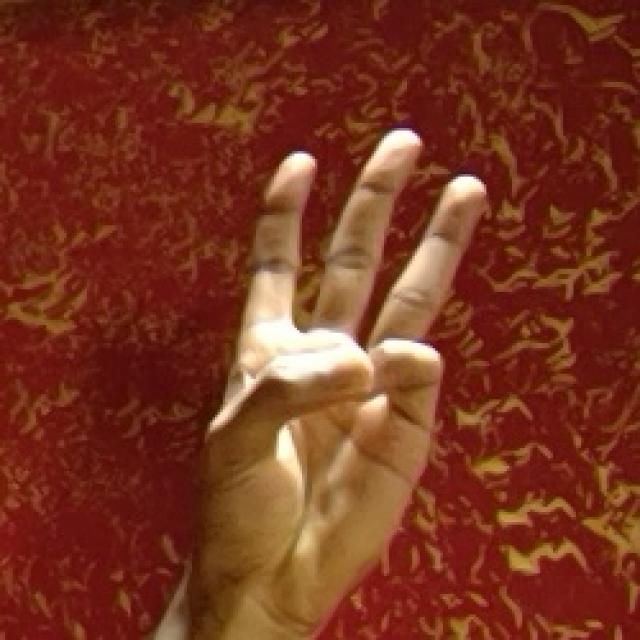Numeric-6: (220, 110, 493, 586)
